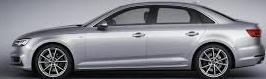Cars: (12, 3, 266, 79)
